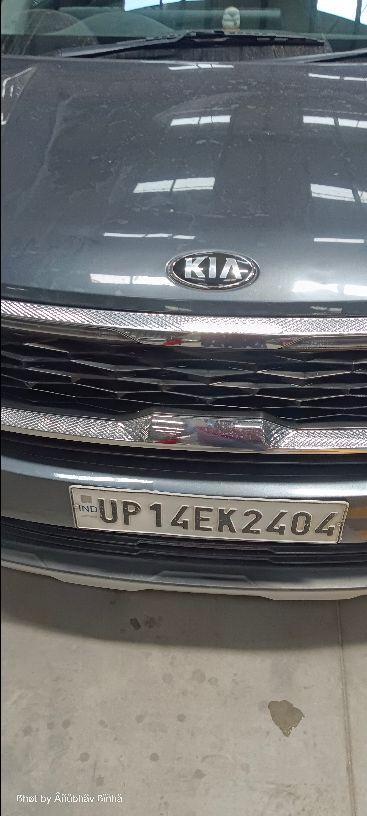license_plate: (1, 42, 366, 600), (67, 483, 350, 545)
